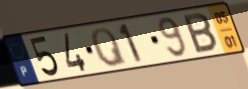1: (118, 22, 145, 66)
4: (64, 31, 88, 73)
5: (28, 35, 60, 79)
9: (157, 16, 189, 59)
B: (181, 11, 219, 56)
Q: (89, 26, 130, 69)
